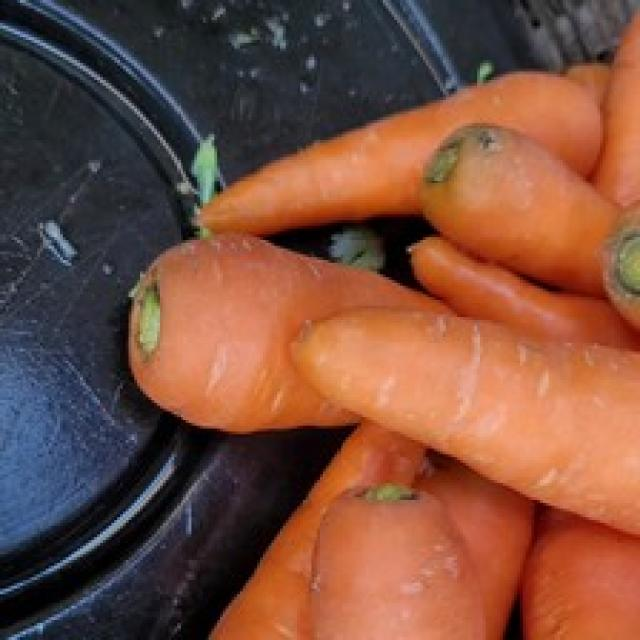Fresh_Carrot: (306, 307, 634, 542), (123, 230, 404, 427), (332, 478, 462, 640), (408, 275, 608, 362)
